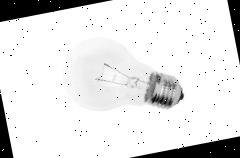lightbulb: (55, 22, 185, 128)
